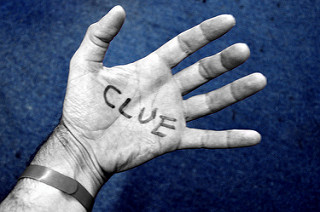palm: (83, 64, 187, 159)
